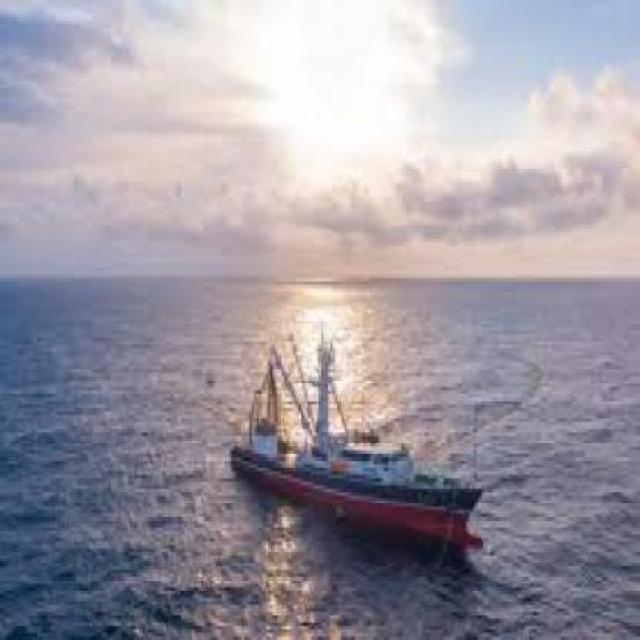fish-b: (223, 314, 503, 585)
